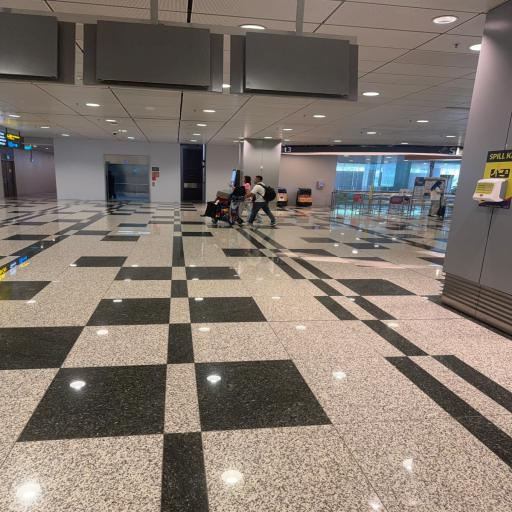person_left: (228, 176, 254, 222)
person_with_luggage_left: (244, 176, 278, 226)
person_with_luggage_right: (429, 179, 445, 218)
